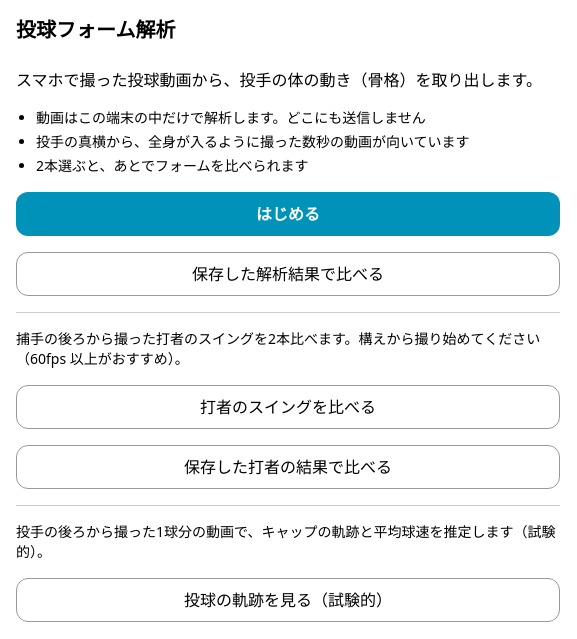
Test: App › はじめに → 準備画面へ進む
The width and height of the screenshot is (577, 639).
Expected: the heading "投球フォーム解析" is shown, [16,16,175,43]
Step 1. Click the button "はじめる" → (288, 214), box [16,192,560,236]
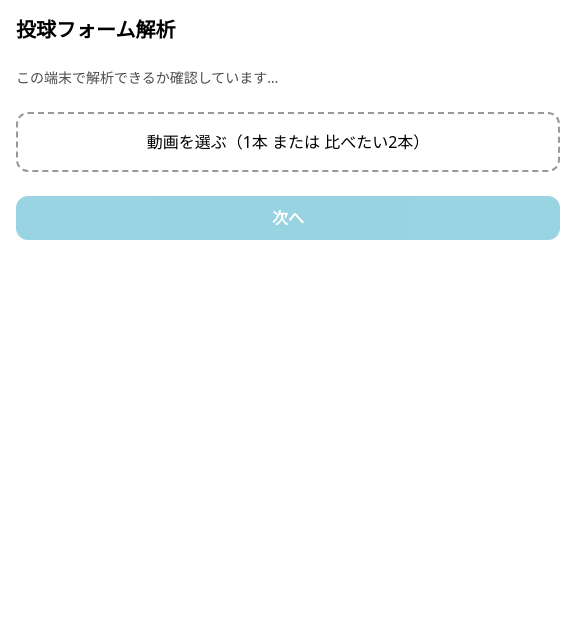
Now the text "この端末で解析できるか確認しています…" is shown, box [16,68,278,87]
Now the button "次へ" is disabled, box [16,196,560,240]
